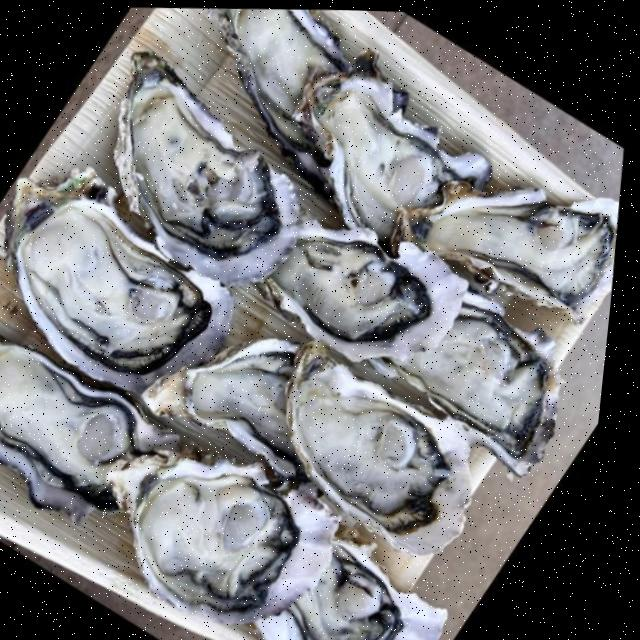Oyster-Open: (113, 60, 314, 288), (13, 191, 219, 381), (286, 349, 473, 556), (106, 455, 330, 625), (362, 295, 552, 475), (301, 74, 489, 237), (0, 337, 138, 523), (213, 8, 354, 181), (146, 343, 306, 491), (420, 189, 614, 307), (248, 533, 456, 640), (270, 232, 436, 346)
